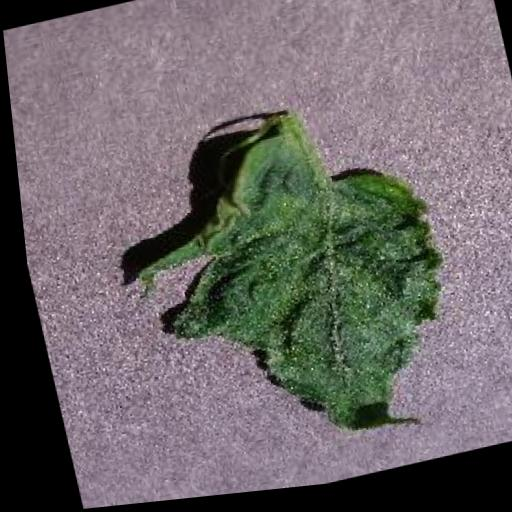Mosaic Virus: (102, 105, 473, 490)
